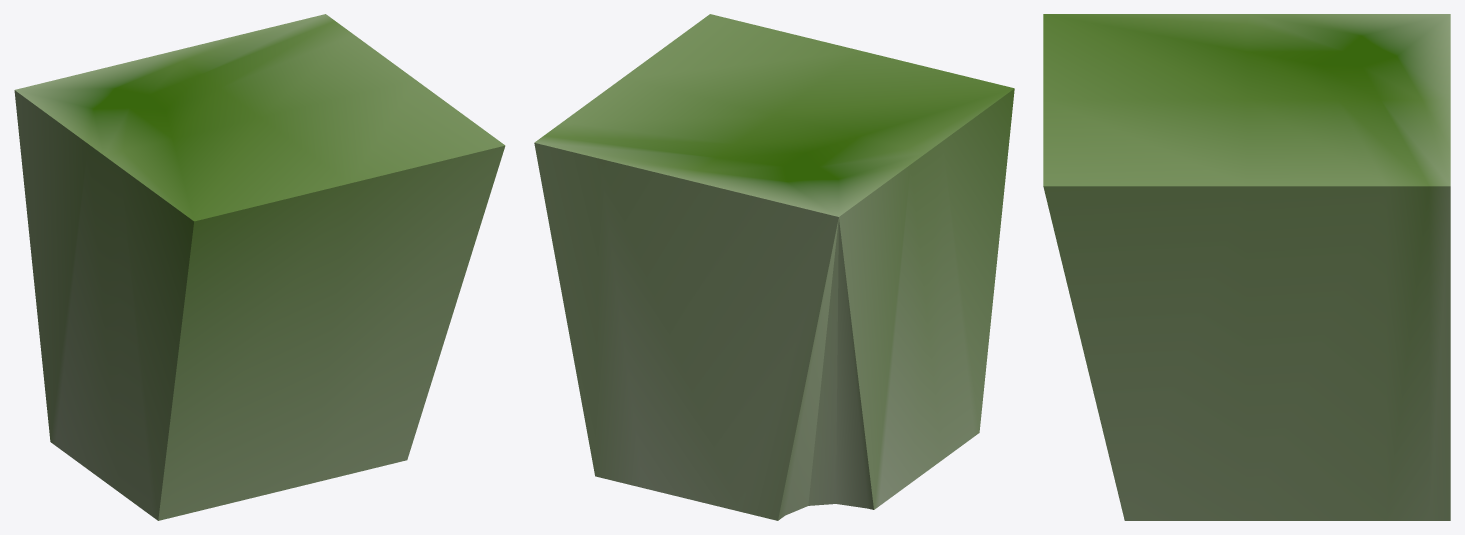
3 views of the same model, side by side, from view 1: azimuth 30°, elevation 25°; view 2: azimuth 150°, elevation 25°; view 3: azimuth 270°, elevation 25° (orthographic). The views are drawn at different scales.
Parts seen in each view (by area): view 1: 3, 1, 4, 2; view 2: 4, 2, 3, 1; view 3: 2, 1, 3, 4.
Boxes of the visible parts, <box> form: 3: <box>104,118,349,520</box>; 1: <box>260,80,505,482</box>; 4: <box>14,52,259,480</box>; 2: <box>170,14,415,117</box>; 4: <box>686,115,926,520</box>; 2: <box>534,78,773,498</box>; 3: <box>775,51,1014,470</box>; 1: <box>622,14,861,115</box>; 2: <box>1247,100,1450,520</box>; 1: <box>1043,100,1246,520</box>; 3: <box>1043,14,1246,99</box>; 4: <box>1247,14,1450,99</box>.
Bounding box in the file's own units: 200 × 200 × 200.
